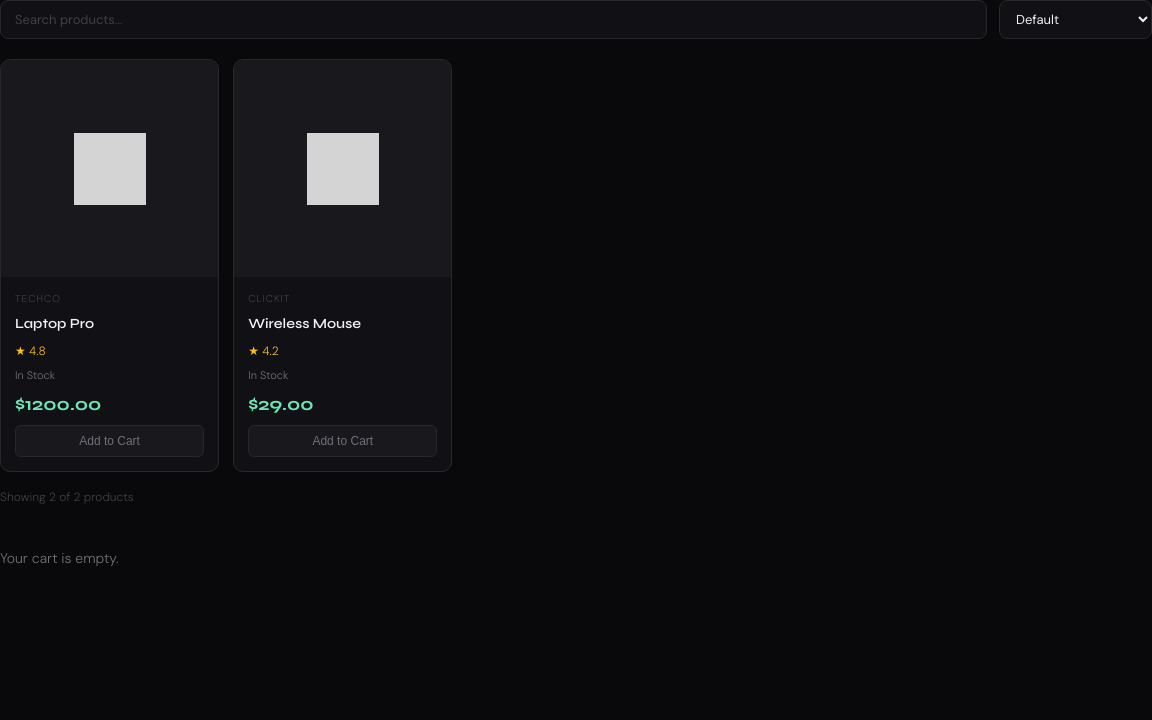
Test: Full Shopping Flow — Product → Cart Integration › adding same product twice increases quantity to 2
What coordinates should you click on to do the following:
click the button with test id "add-to-cart-btn" below "1200.00"
I would click on:
 (110, 441)
Its box is x1=15 y1=425 x2=204 y2=457.
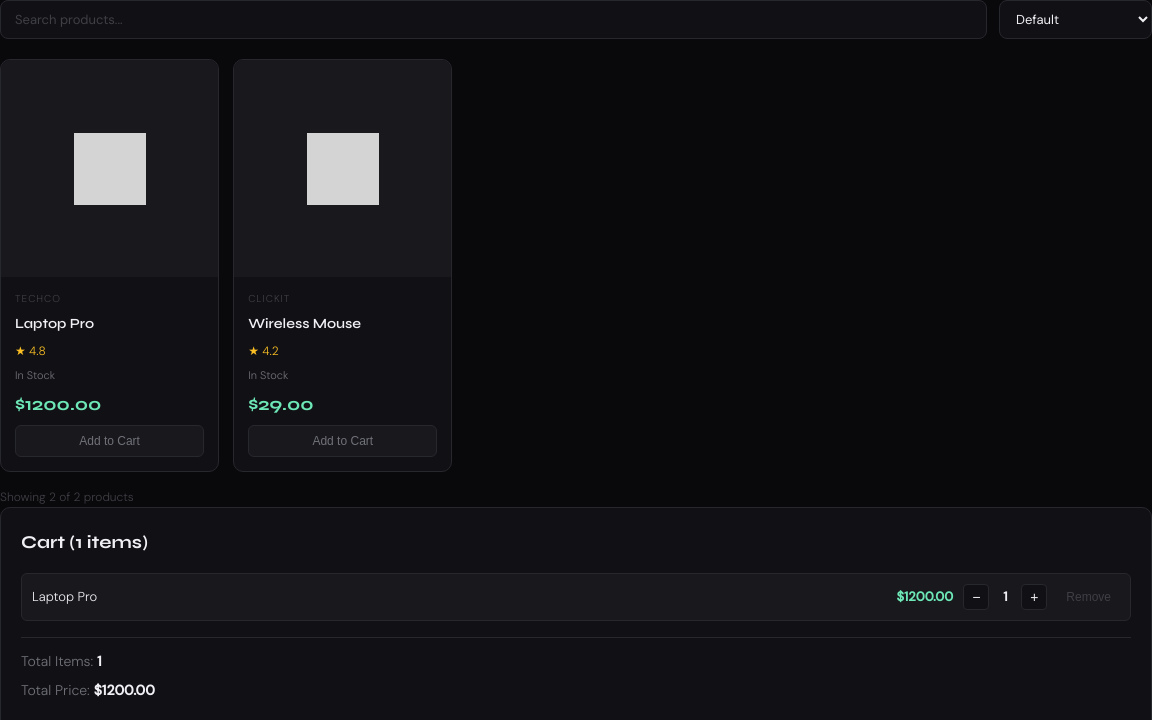
What coordinates should you click on to do the following:
click the button with test id "add-to-cart-btn" below "4.8"
I would click on:
 (110, 441)
Its box is x1=15 y1=425 x2=204 y2=457.
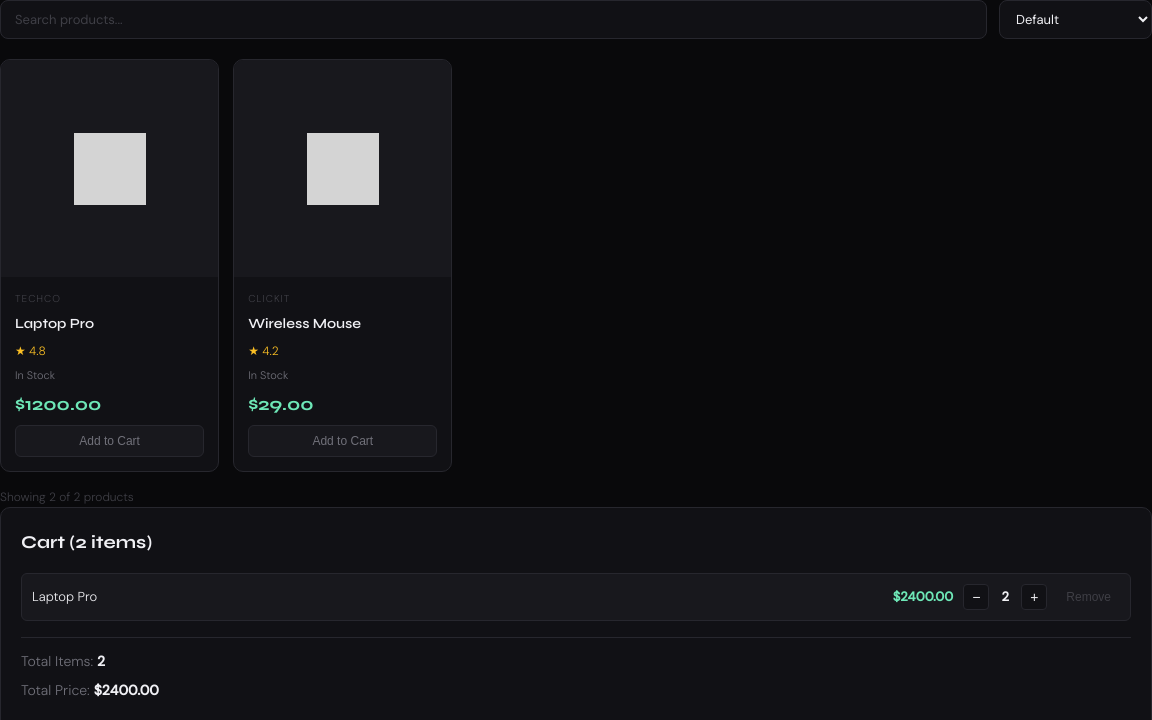
expect the text with test id "qty-1" reads "2": met, box x1=1002 y1=588 x2=1009 y2=605
expect the text with test id "total-items" reads "2": met, box x1=97 y1=652 x2=105 y2=670
